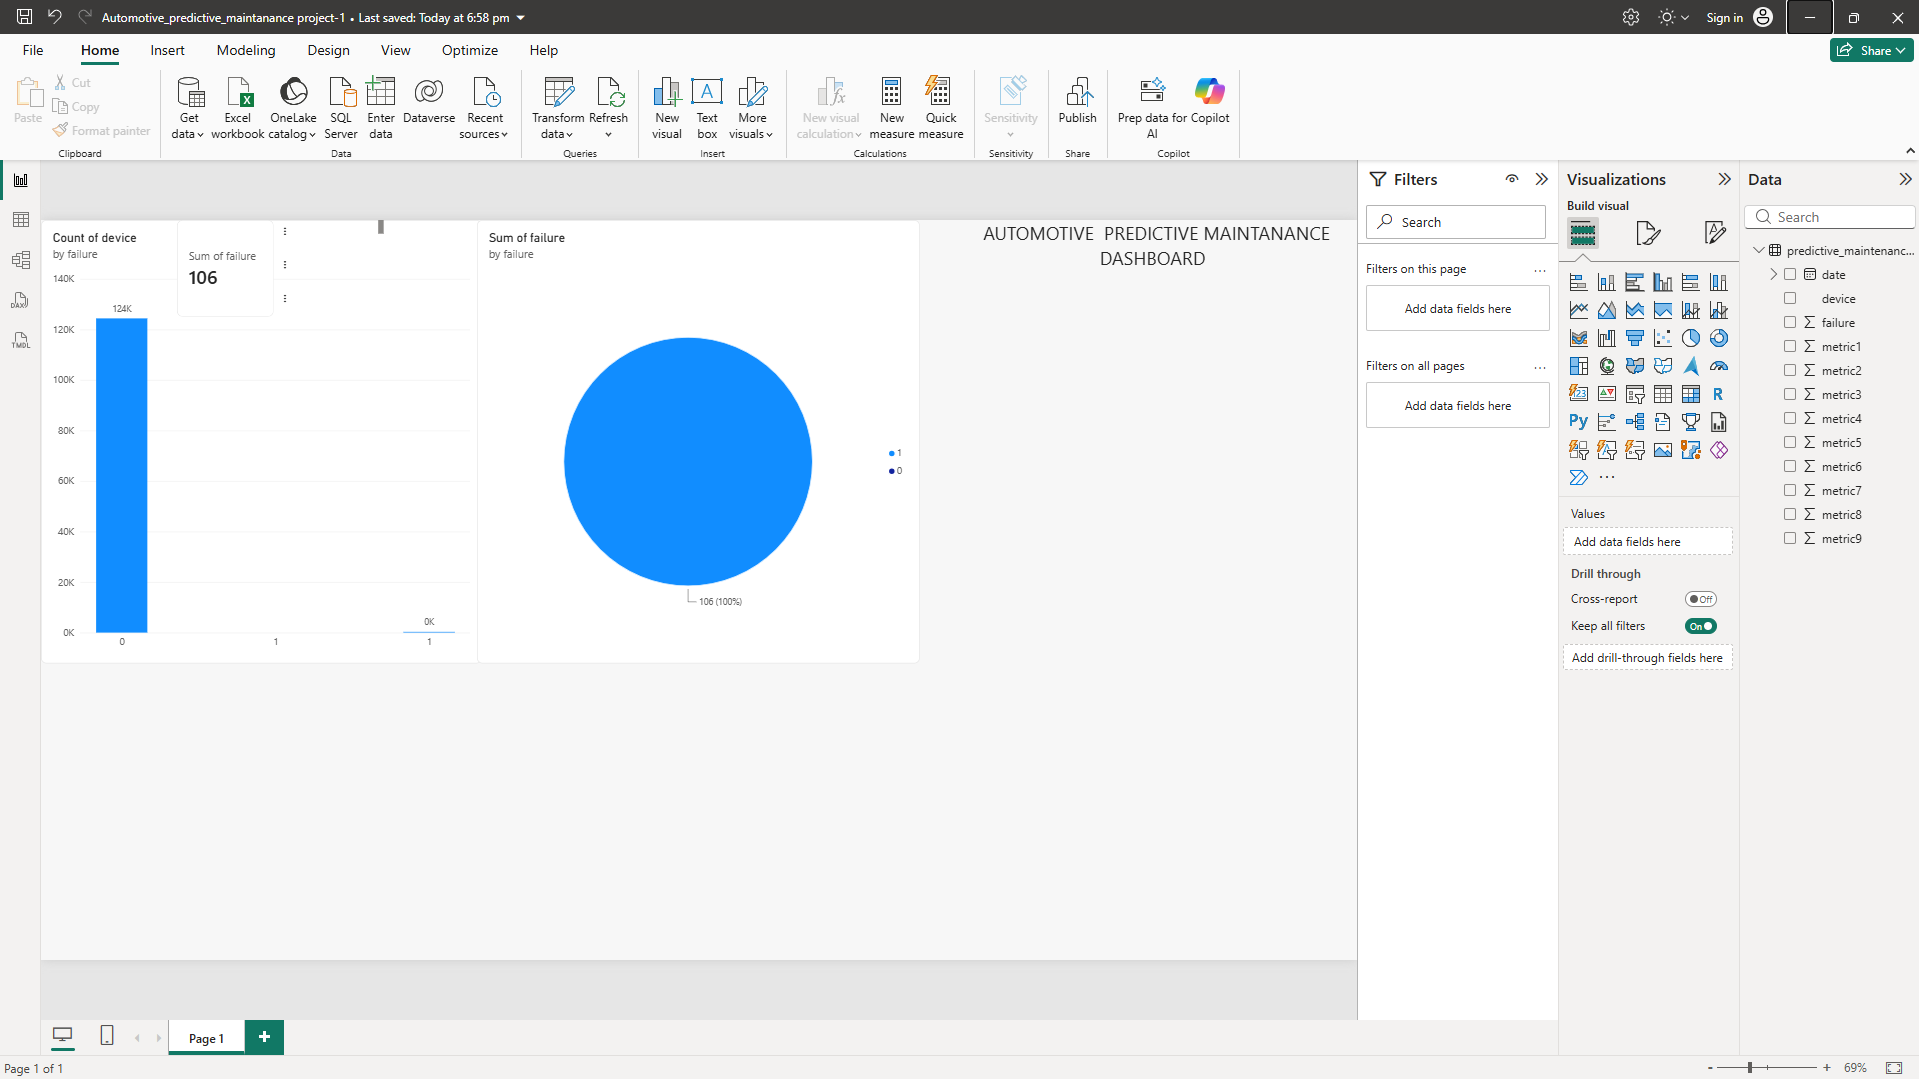

Layout of this report page (visuals, bound fields, positions):
{"tool":"powerbi","page":{"name":"Page 1","canvas":[1920,1080],"ordinal":0},"visuals":[{"type":"columnChart","fields":{"Category":["predictive_maintenance_dataset.failure"],"Y":["CountNonNull(predictive_maintenance_dataset.device)"]},"box":[0,0,643,647],"z":0},{"type":"pieChart","fields":{"Category":["predictive_maintenance_dataset.failure"],"Y":["Sum(predictive_maintenance_dataset.failure)"]},"box":[636.7,0,646,647],"z":1000},{"type":"cardVisual","fields":{"Rows":["predictive_maintenance_dataset.device"]},"box":[339.9,0,160.5,141.5],"z":2000},{"type":"cardVisual","fields":{"Data":["Sum(predictive_maintenance_dataset.failure)"]},"box":[198.4,0,141.5,141.5],"z":3000},{"type":"textbox","box":[1282.9,0,637.1,647.1],"z":4000}]}

Visuals, with their boxes in screenshot pixels (x1, y1, x2, y2):
columnChart - predictive_maintenance_dataset.failure x CountNonNull(predictive_maintenance_dataset.device): box(90, 25, 724, 663)
pieChart - predictive_maintenance_dataset.failure x Sum(predictive_maintenance_dataset.failure): box(718, 25, 1354, 663)
cardVisual - predictive_maintenance_dataset.device: box(425, 25, 583, 164)
cardVisual - Sum(predictive_maintenance_dataset.failure): box(286, 25, 425, 164)
textbox: box(1354, 25, 1918, 663)
